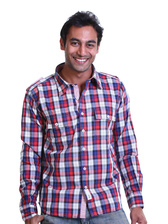clothoes: (14, 61, 145, 218)
